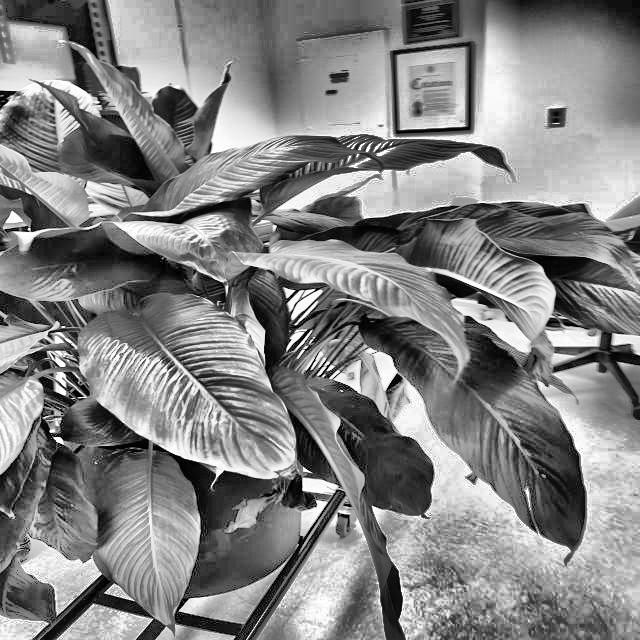plants: (0, 52, 640, 500)
